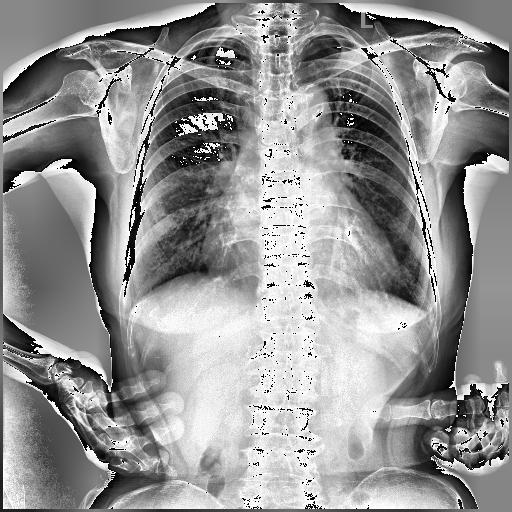0- Aortic enlargement: (287, 82, 338, 142), (284, 85, 332, 132)
3- Cardiomegaly: (202, 210, 402, 294), (202, 228, 398, 298), (202, 236, 398, 293)
